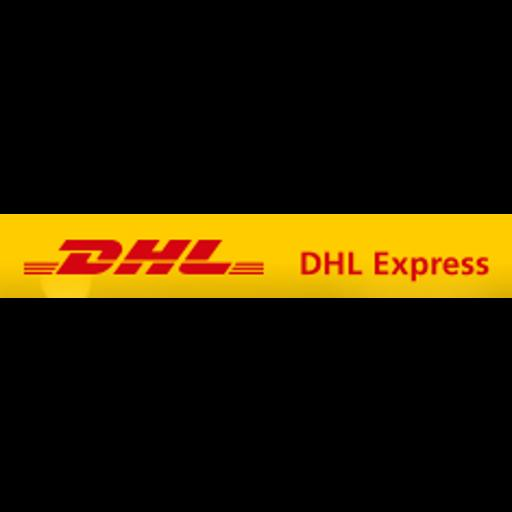DHL: (0, 214, 512, 298)
